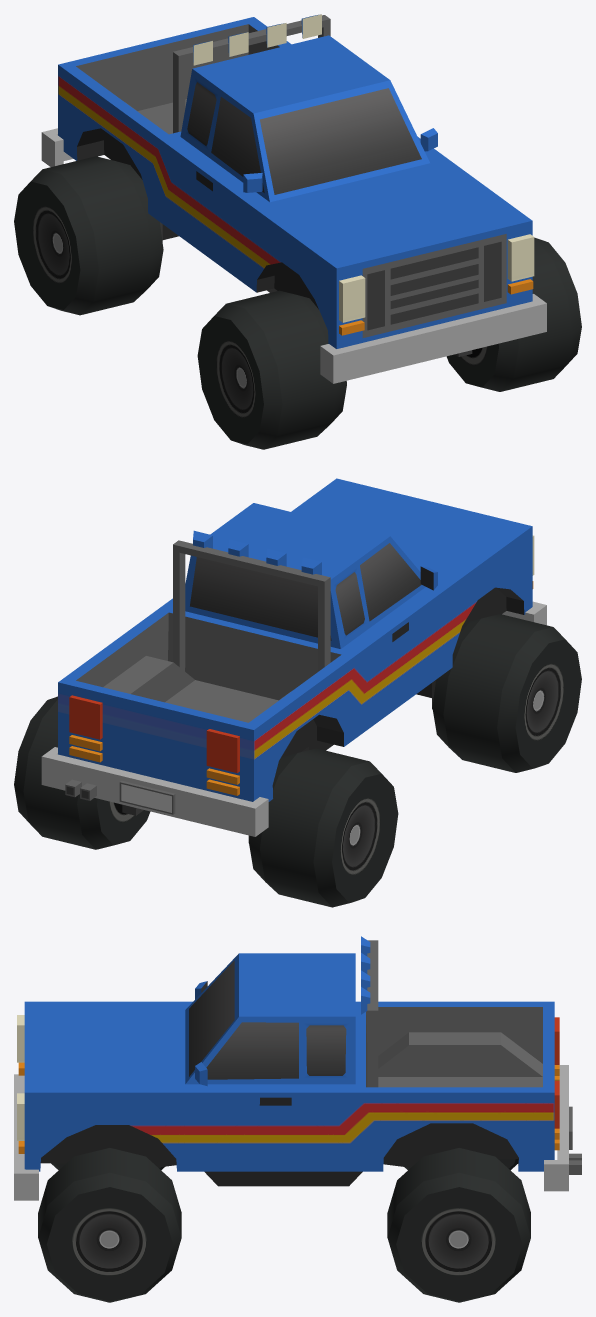
The model's file is MonsterTruck.fbx.
3 views of the same model, one above another, from view 1: azimuth 30°, elevation 25°; view 2: azimuth 150°, elevation 25°; view 3: azimuth 270°, elevation 25° (orthographic). The views are drawn at different scales.
Parts seen in each view (by area): view 1: MonsterTruck, TireBR, TireFR, TireFL; view 2: MonsterTruck, TireFR, TireBR, TireBL; view 3: MonsterTruck, TireBL, TireFL.
Boxes of the visible parts, x1,y1,x2,y2 form: MonsterTruck: [41, 14, 546, 383]; TireBR: [14, 156, 163, 315]; TireFR: [197, 290, 346, 449]; TireFL: [446, 237, 581, 391]; MonsterTruck: [41, 478, 546, 842]; TireFR: [432, 614, 581, 772]; TireBR: [249, 748, 398, 907]; TireBL: [14, 696, 150, 849]; MonsterTruck: [14, 936, 581, 1200]; TireBL: [387, 1148, 530, 1302]; TireFL: [38, 1148, 181, 1302].
Bounding box in the file's own units: 343 × 292 × 558.
